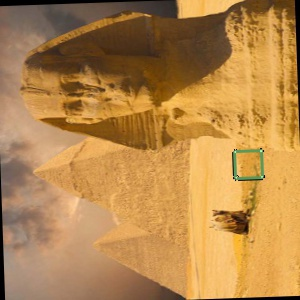square: (230, 147, 267, 183)
